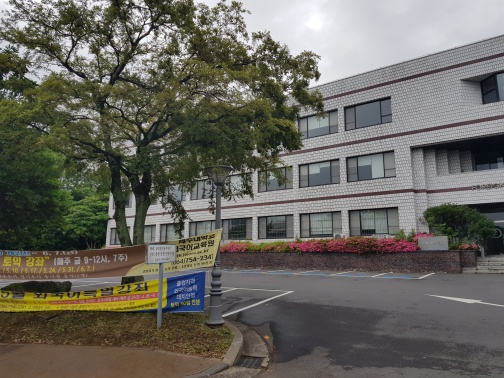Foreign Language Institute: (110, 53, 498, 275), (295, 148, 401, 190)
